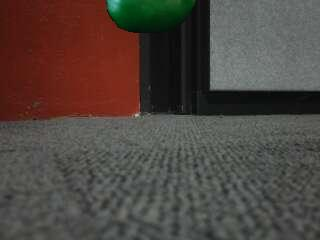Lime: (104, 0, 199, 35)
